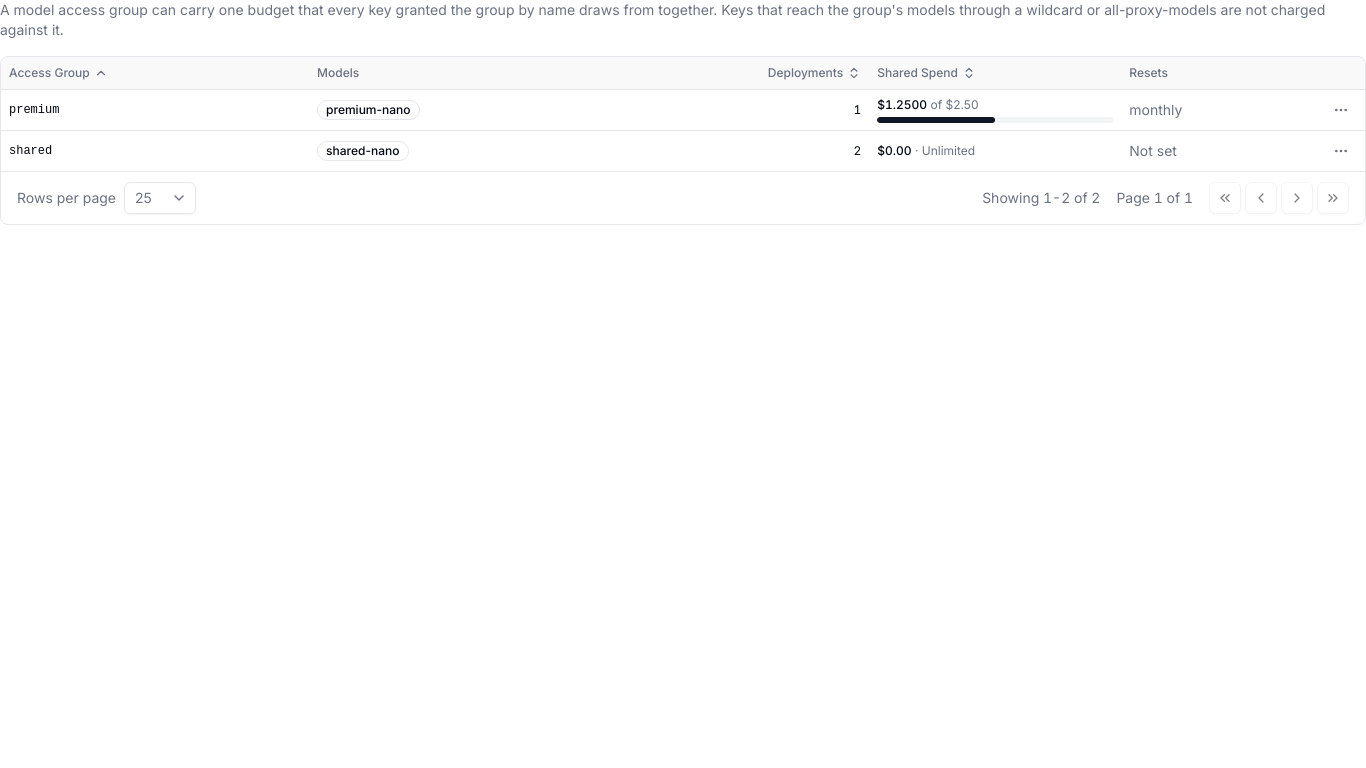
Test: AccessGroupBudgetsPanel › pre-fills the modal from the budget the group already has
Click the button named "Open budget actions for premium".
click(1341, 110)  # box [1325,94,1357,126]
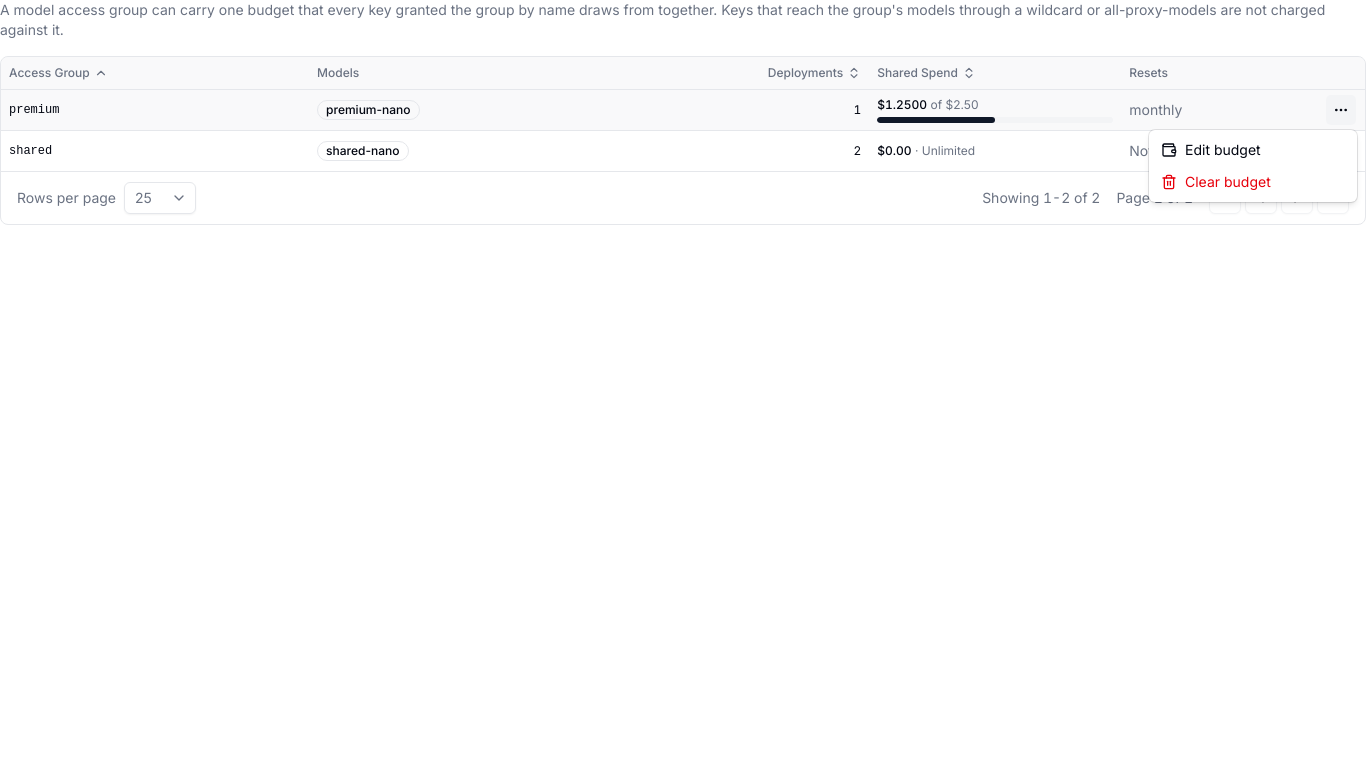
Click the menu item "Edit budget".
click(1211, 150)  # box [1161,141,1261,158]
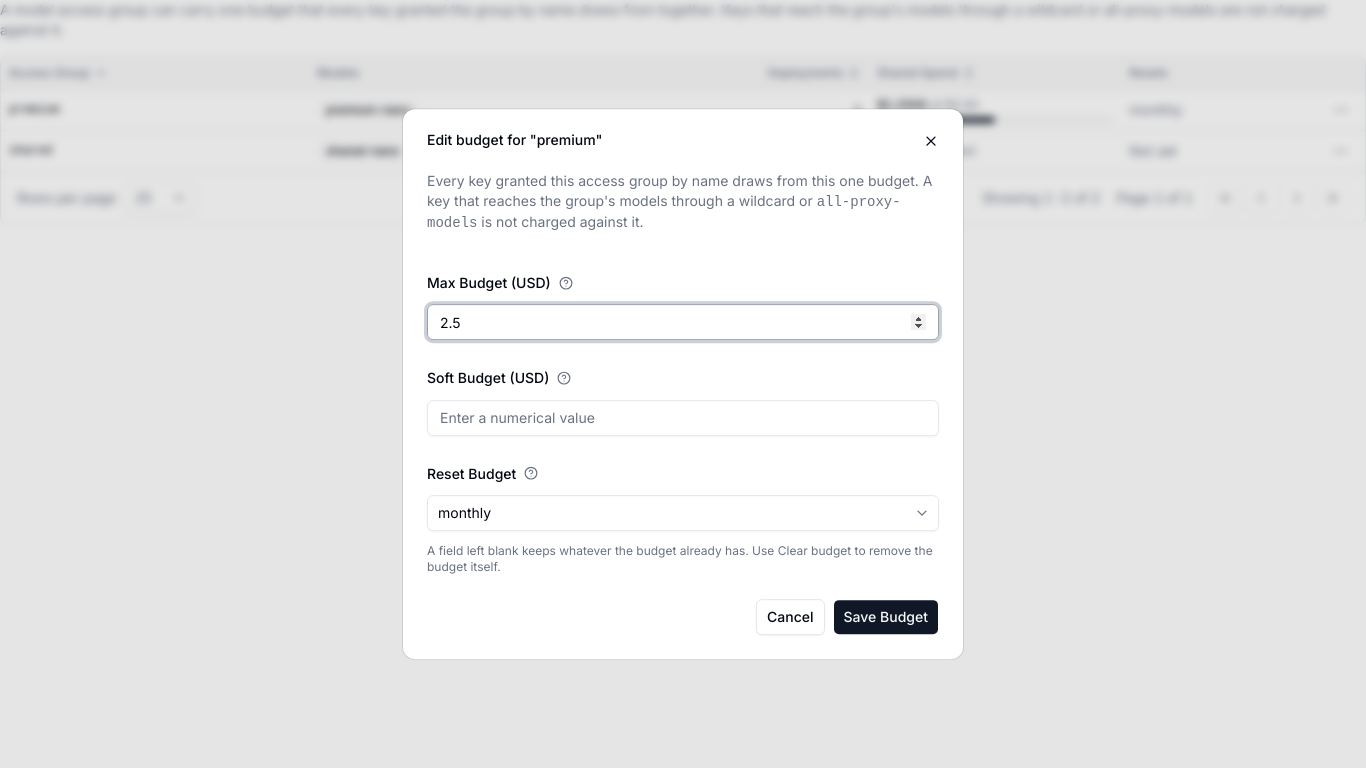
Result: the number field labelled "Max Budget (USD)" holds "2.5" at [427,304,939,340]
